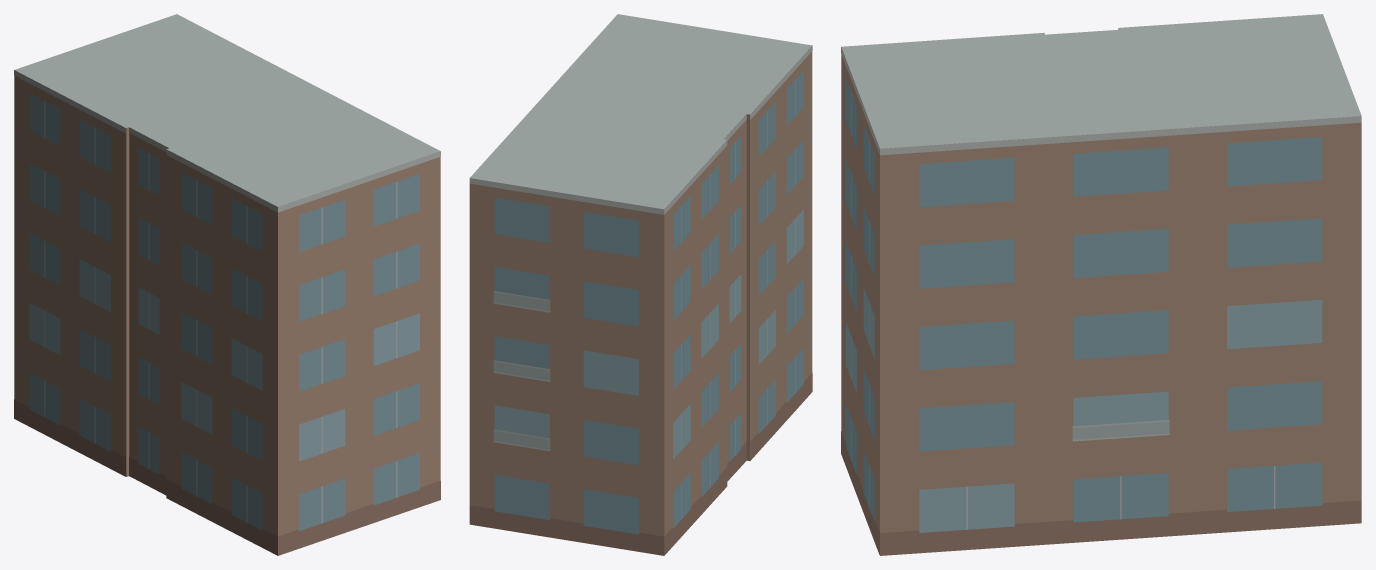
The model's file is survey-upis-32570559.glb.
3 views of the same model, side by side, from view 1: azimuth 30°, elevation 25°; view 2: azimuth 150°, elevation 25°; view 3: azimuth 270°, elevation 25° (orthographic). The views are drawn at different scales.
Parts seen in each view (by area): view 1: survey-upis-32570559.tmp; view 2: survey-upis-32570559.tmp; view 3: survey-upis-32570559.tmp.
Boxes of the visible parts, x1,y1,x2,y2 form: survey-upis-32570559.tmp: [14, 14, 440, 555]; survey-upis-32570559.tmp: [469, 14, 812, 555]; survey-upis-32570559.tmp: [841, 14, 1361, 555].
Size of the model in its own units: 10.84 by 15.25 by 17.69.
